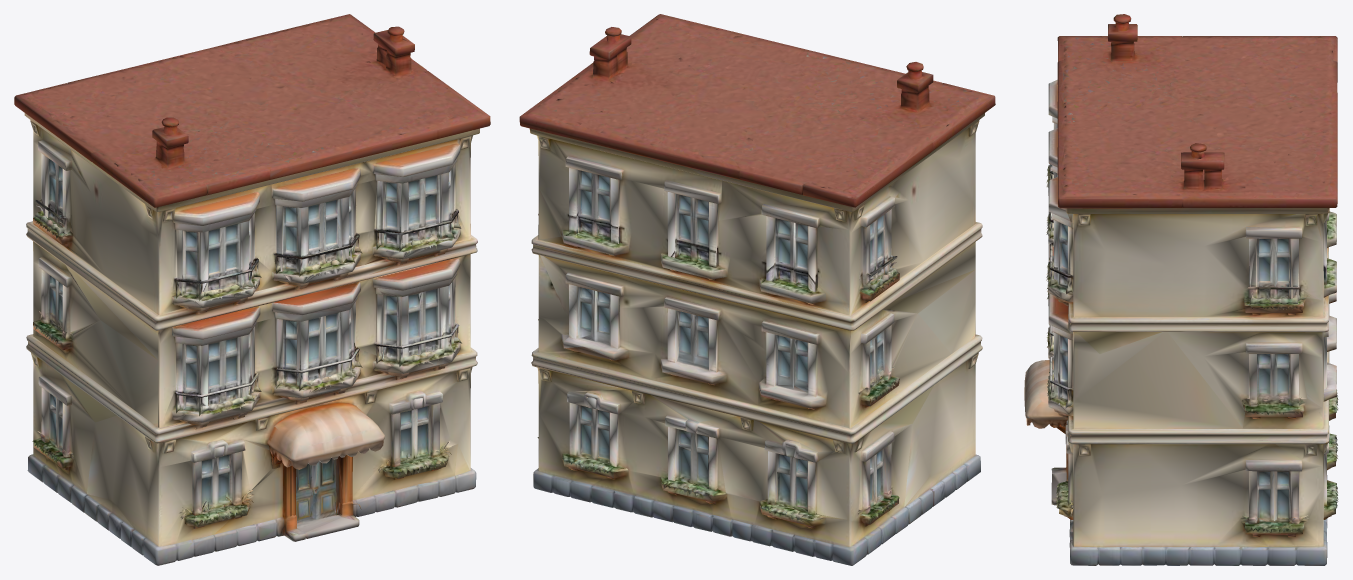
The model's file is gedung-plaza-g10.glb.
The picture shows the model from 3 angles, left to right: view 1: azimuth 30°, elevation 25°; view 2: azimuth 150°, elevation 25°; view 3: azimuth 270°, elevation 25°; orthographic projection.
Visible parts, largest first — view 1: node_0; view 2: node_0; view 3: node_0.
Boxes of the visible parts, box(x1,y1,x2,y2) form: node_0: box(14, 14, 490, 565); node_0: box(519, 14, 995, 565); node_0: box(1024, 14, 1338, 565).
Size of the model in its own units: 0.7133 by 0.8434 by 0.58.
1 material, 1 textured.
